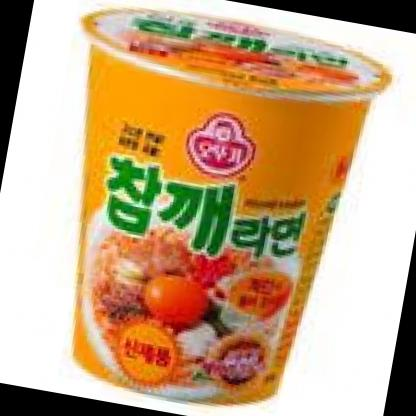Ramen: (19, 0, 394, 416)
